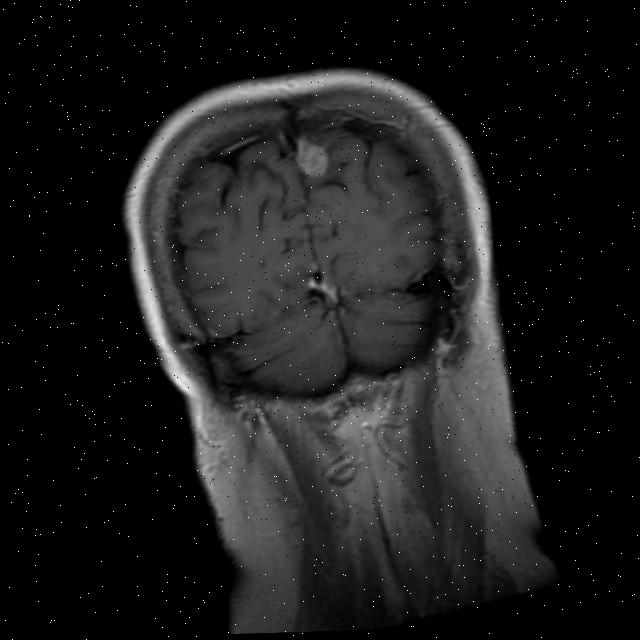Meningioma: (287, 128, 333, 181)
